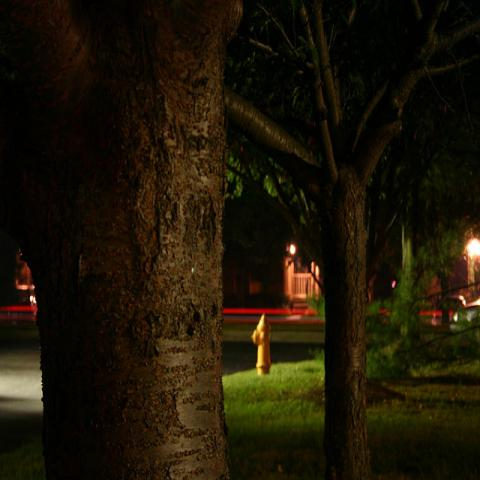car: (419, 293, 474, 326), (453, 301, 480, 323)
